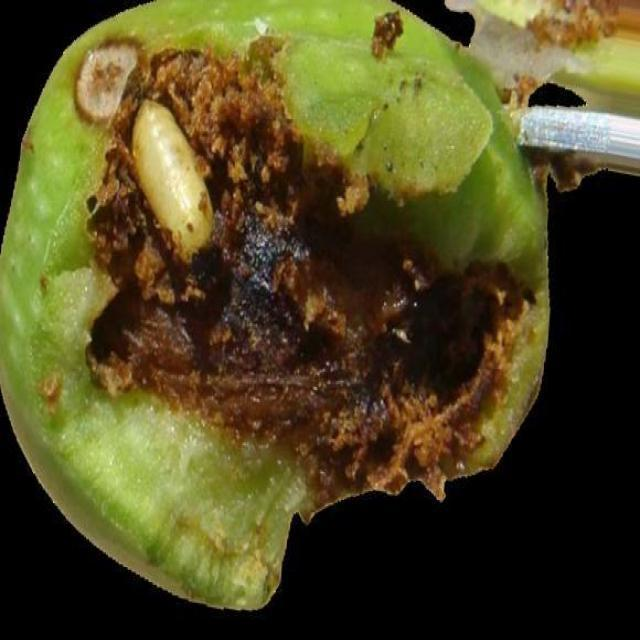Anthracnose: (0, 0, 547, 607)
